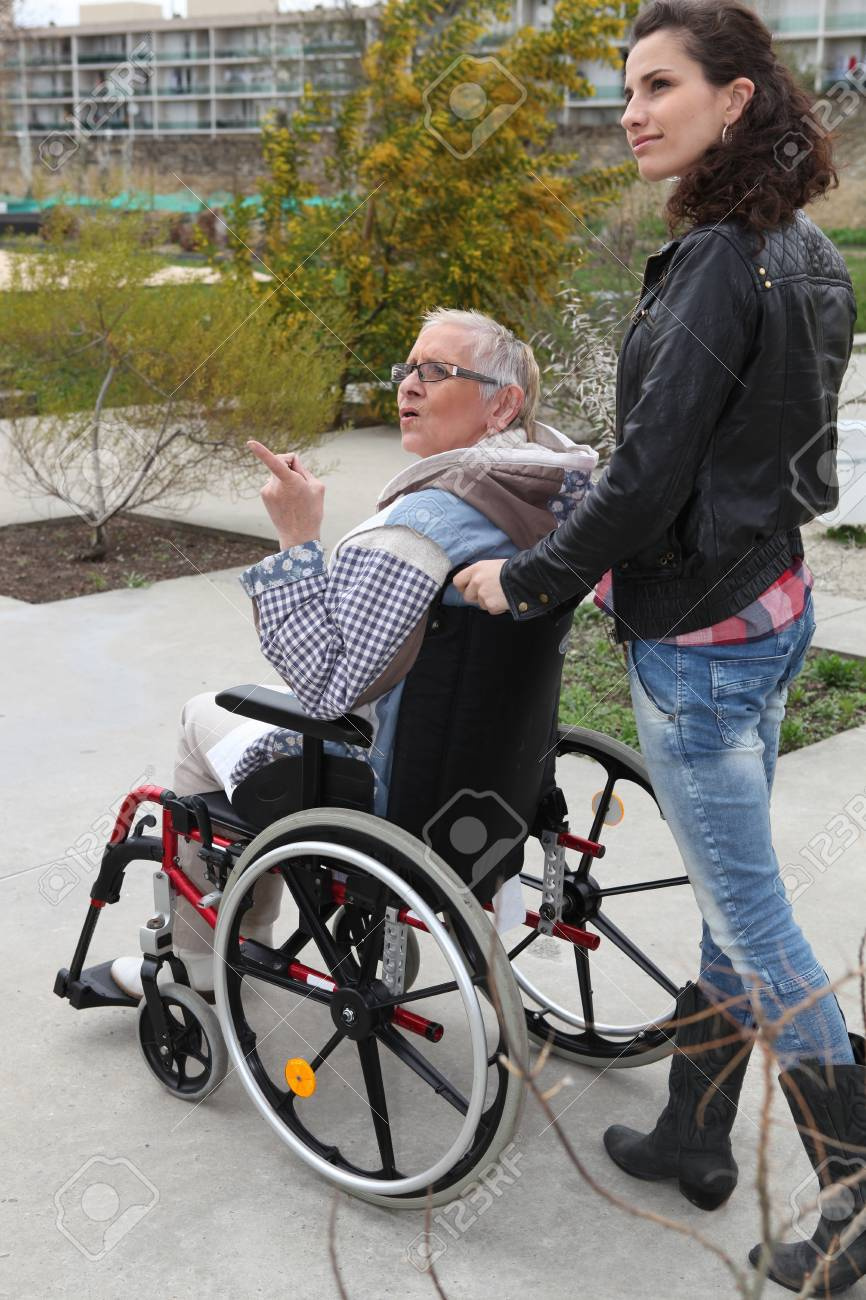person: (580, 7, 863, 1287), (223, 287, 569, 768)
wheelchair: (33, 730, 669, 1199)
